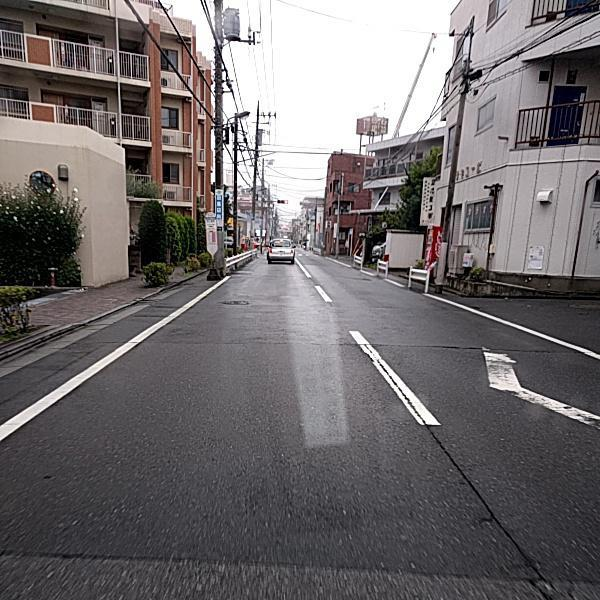D44: (468, 342, 599, 425), (354, 331, 438, 424)
D50: (218, 295, 250, 308)
